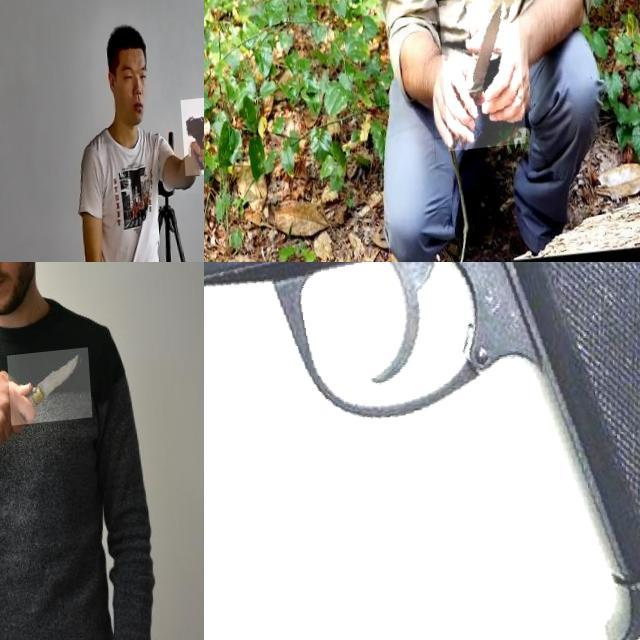-: (434, 2, 520, 158), (3, 356, 87, 432)
gun-knife-thesis - v11 Yolov5 augmented: (204, 262, 640, 640), (178, 103, 204, 183)
